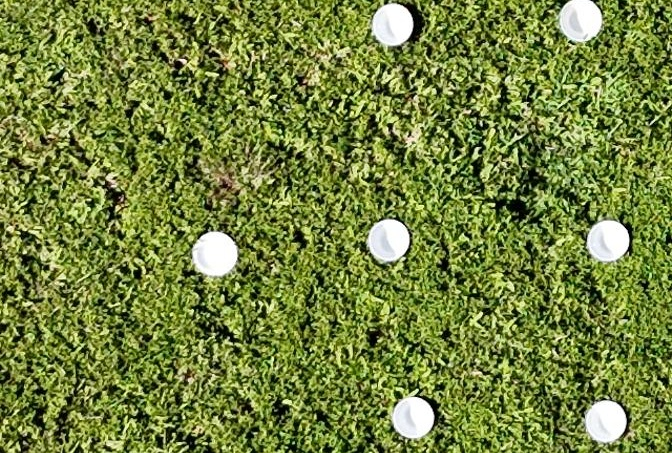bowl: (189, 229, 239, 279), (363, 218, 411, 264), (389, 395, 436, 441), (581, 399, 628, 445), (369, 3, 417, 47), (558, 0, 604, 45), (584, 219, 630, 263)
